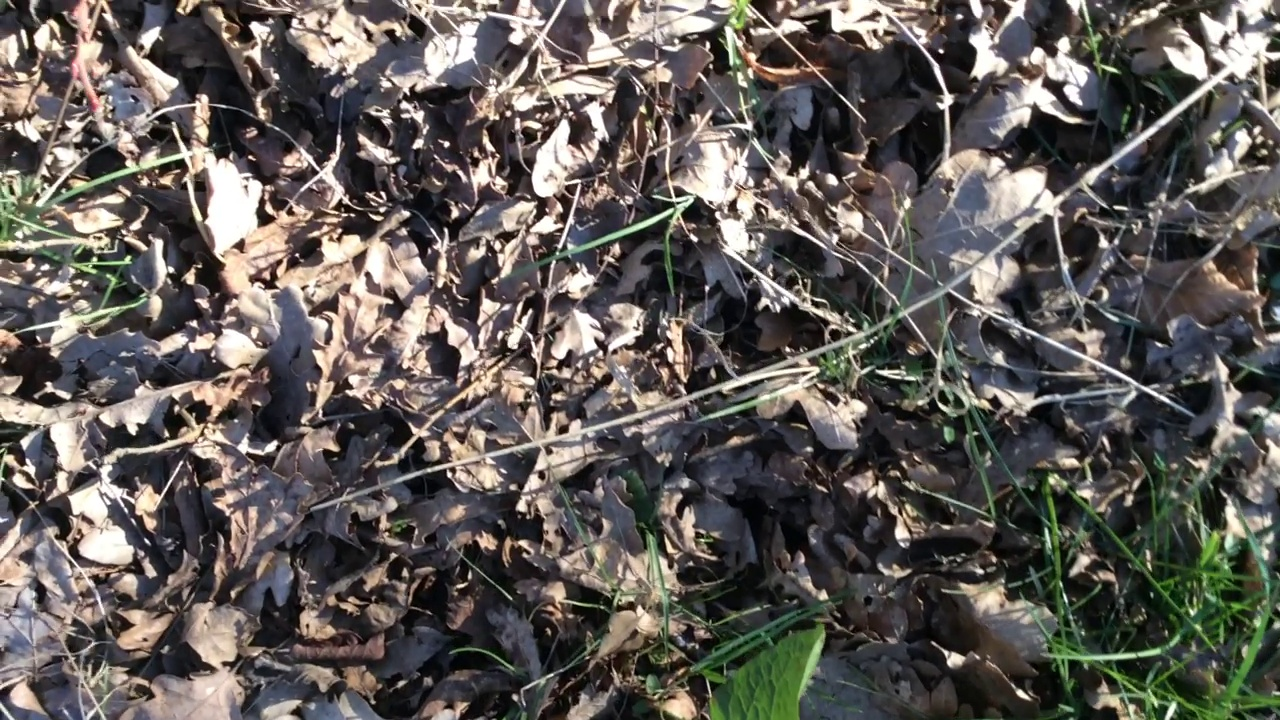rumex: (707, 629, 826, 720)
